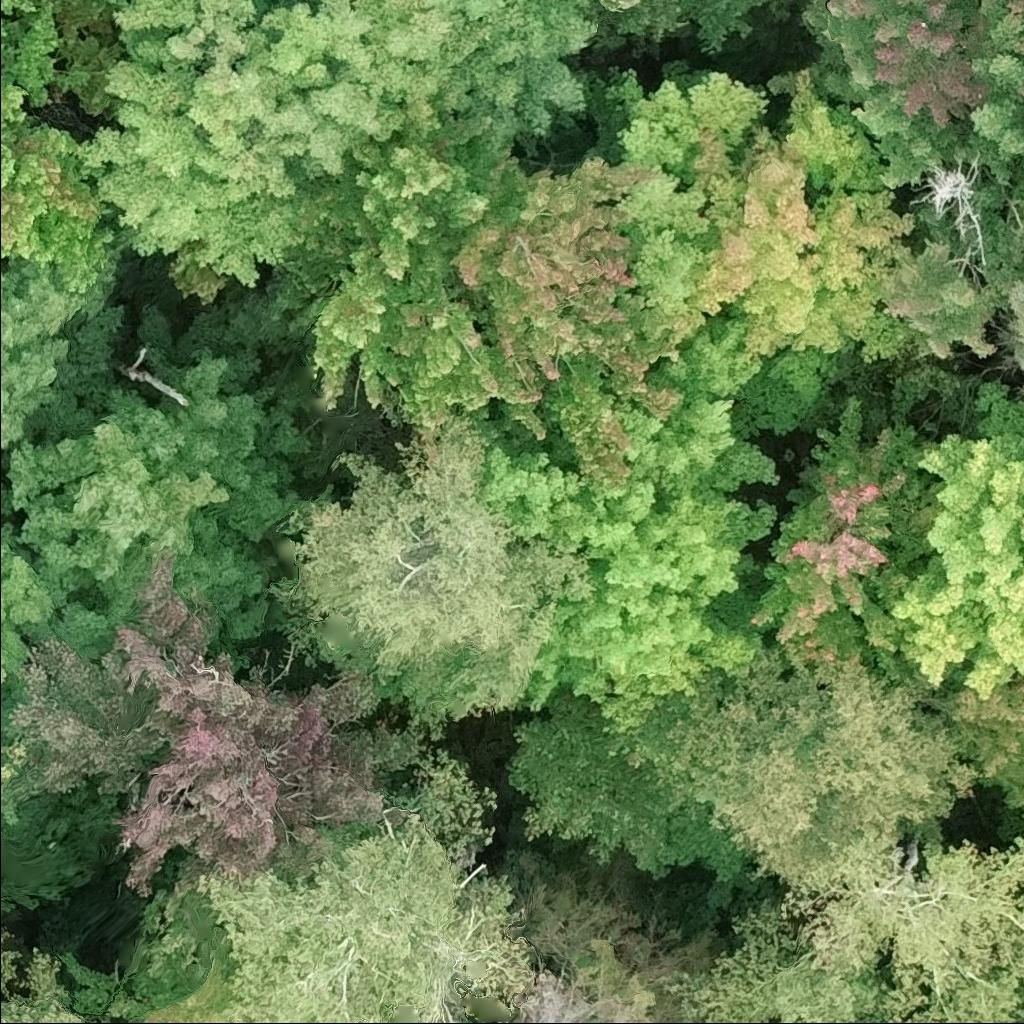crown: (76, 0, 604, 336), (9, 544, 425, 915), (0, 285, 316, 740), (309, 117, 692, 483), (481, 317, 781, 732), (588, 59, 918, 436), (594, 639, 983, 891), (292, 405, 594, 723), (770, 0, 1023, 294), (679, 828, 1023, 1023), (194, 820, 514, 1023), (749, 394, 943, 661), (874, 379, 1023, 700), (0, 245, 125, 448), (0, 114, 116, 292), (878, 235, 1004, 363), (924, 674, 1023, 817), (592, 0, 764, 53), (904, 158, 989, 263), (0, 0, 62, 110), (0, 969, 65, 1023), (1003, 269, 1023, 375), (0, 736, 30, 791), (0, 84, 27, 131), (1018, 384, 1023, 396), (1016, 1015, 1023, 1023), (1021, 1003, 1023, 1007), (1023, 701, 1023, 701)
